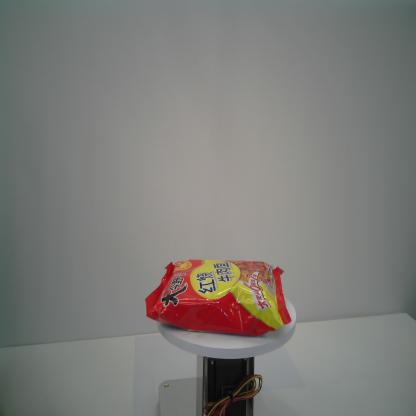Instant Noodles: (144, 258, 292, 337)
